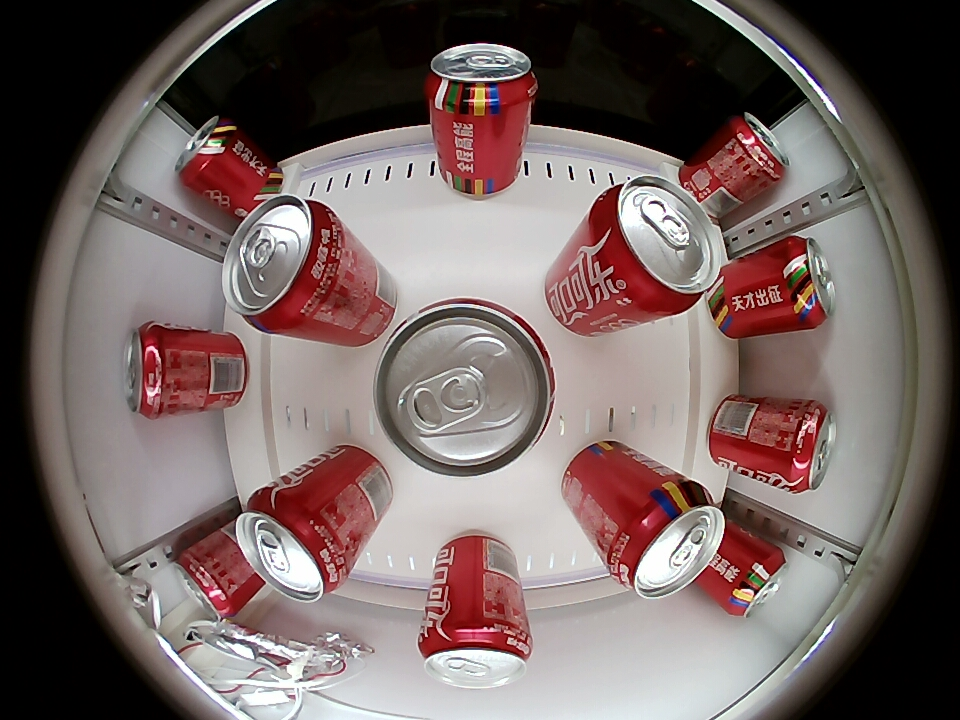kele: (373, 300, 555, 478), (588, 177, 725, 314), (222, 195, 346, 332), (607, 481, 725, 600), (234, 486, 350, 603), (427, 43, 537, 118), (419, 621, 532, 689), (776, 402, 835, 494), (123, 322, 178, 419), (174, 542, 240, 620), (721, 542, 788, 618), (780, 236, 834, 329), (176, 115, 236, 191), (729, 112, 788, 187)
